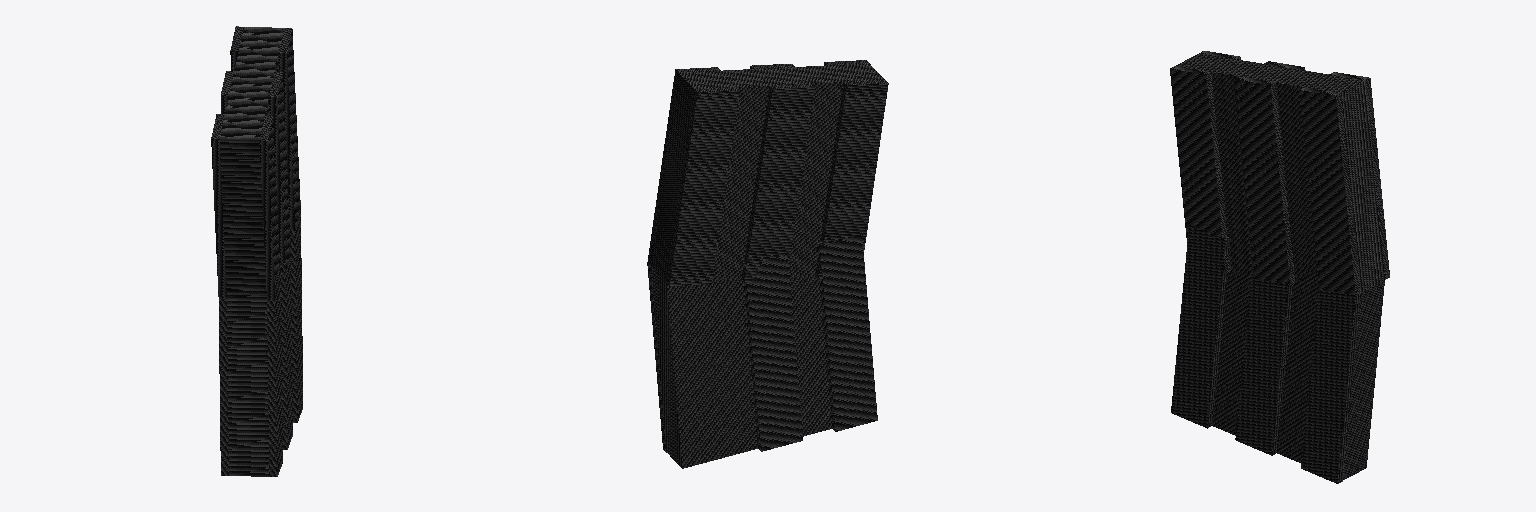
3 views of the same model, side by side, from view 1: azimuth 30°, elevation 25°; view 2: azimuth 150°, elevation 25°; view 3: azimuth 270°, elevation 25° (orthographic).
Parts seen in each view (by area): view 1: Object027; view 2: Object027; view 3: Object027.
Part boxes in pixels (x1,y1,x2,y2): Object027: (211, 26, 302, 476); Object027: (647, 60, 888, 468); Object027: (1170, 51, 1389, 483).
Bounding box in the file's own units: 8.69 × 19.21 × 10.02.
Materials: 1 (1 with a texture image).